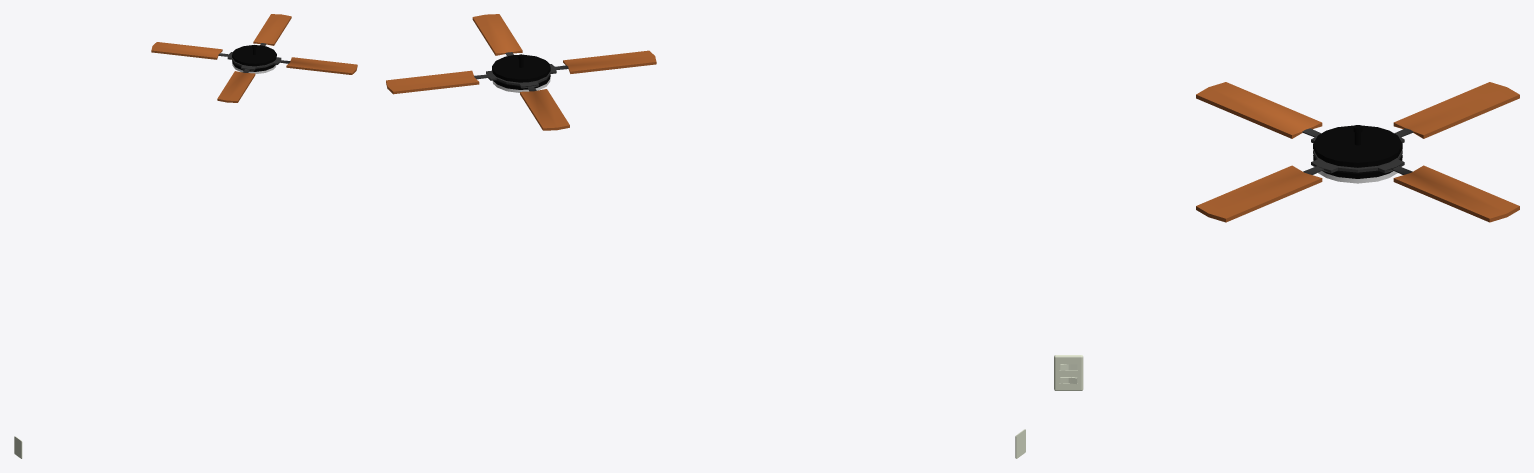
The model's file is Ventilador.fbx.
The picture shows the model from 3 angles, left to right: view 1: azimuth 30°, elevation 25°; view 2: azimuth 150°, elevation 25°; view 3: azimuth 270°, elevation 25°; orthographic projection. The views are drawn at different scales.
Parts seen in each view (by area): view 1: Pas, Ventilador; view 2: Pas, Ventilador; view 3: Pas, Ventilador, Interrupitor.
Part boxes in pixels (x1=…): Pas: x1=151, y1=14, x2=357, y2=102; Ventilador: x1=232, y1=45, x2=276, y2=74; Pas: x1=386, y1=14, x2=656, y2=130; Ventilador: x1=492, y1=54, x2=550, y2=92; Pas: x1=1196, y1=82, x2=1519, y2=222; Ventilador: x1=1313, y1=125, x2=1402, y2=183; Interrupitor: x1=1054, y1=355, x2=1083, y2=390.
Size of the model in its own units: 13817 by 9850 by 7355.
